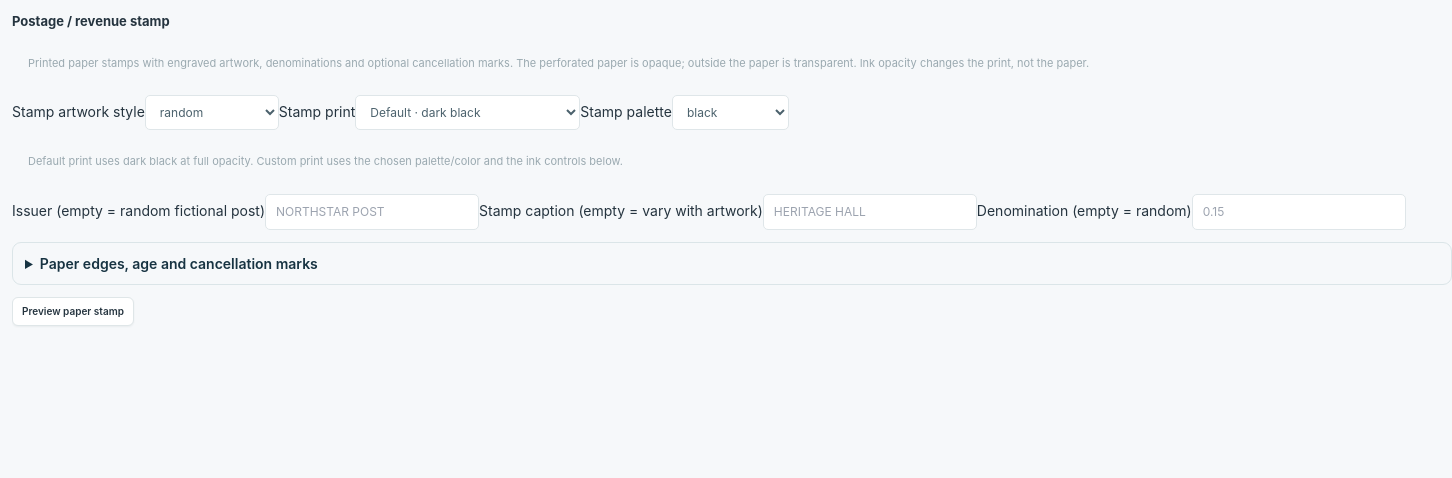
Test: previews the correct paper field and reports server sizing errors
Click the button "Preview paper stamp".
click(73, 312)  # box [12, 297, 134, 326]
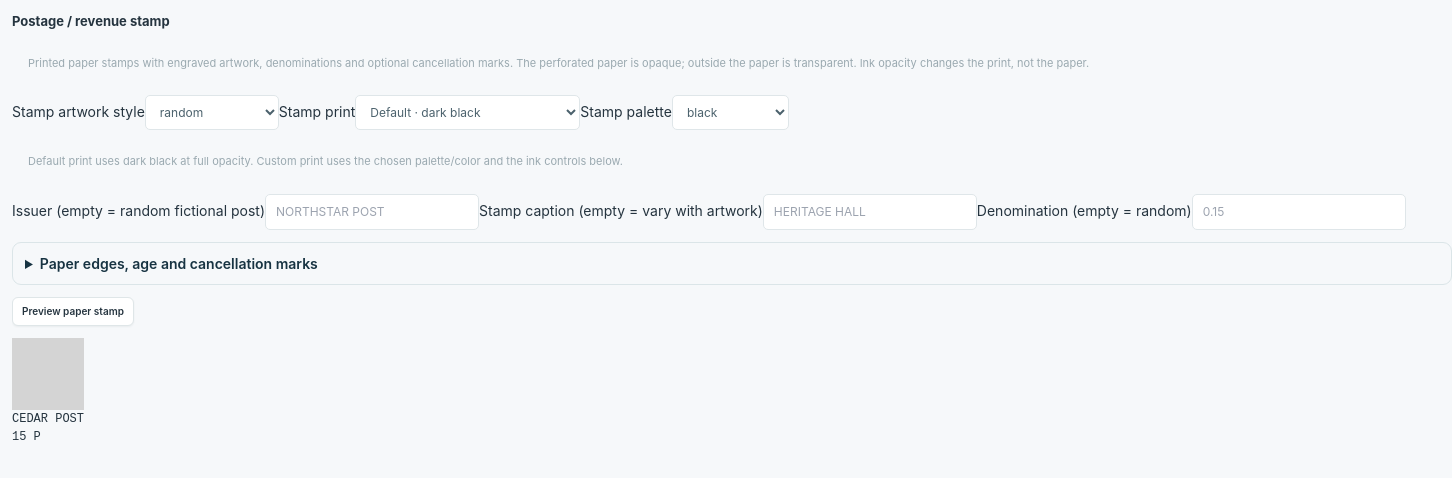
Click the button "Preview paper stamp".
click(73, 312)  # box [12, 297, 134, 326]
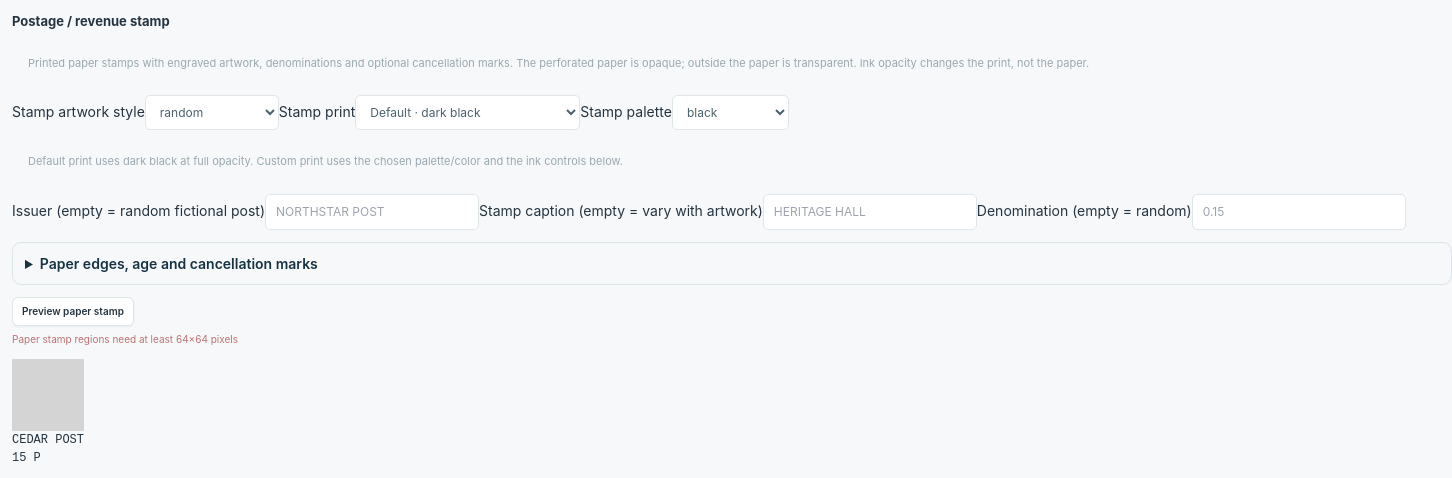
Check: the message shows "64×64", box [12, 333, 238, 345]
